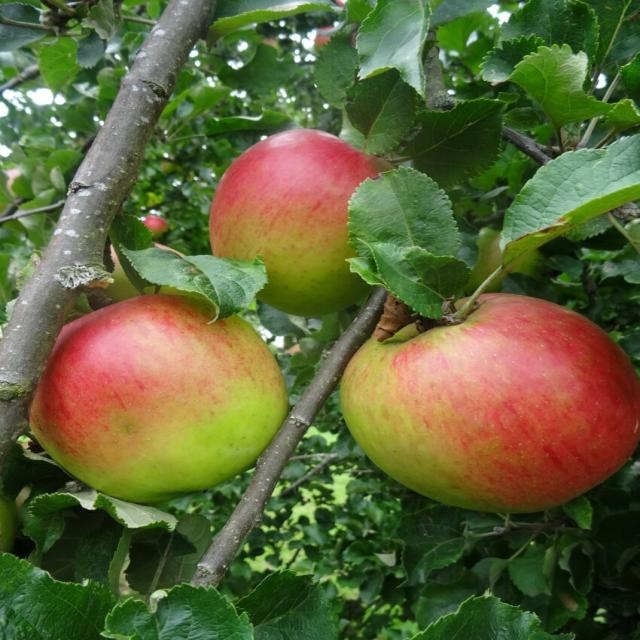Red Apple: (338, 291, 639, 513), (24, 288, 290, 503), (207, 128, 397, 323)
